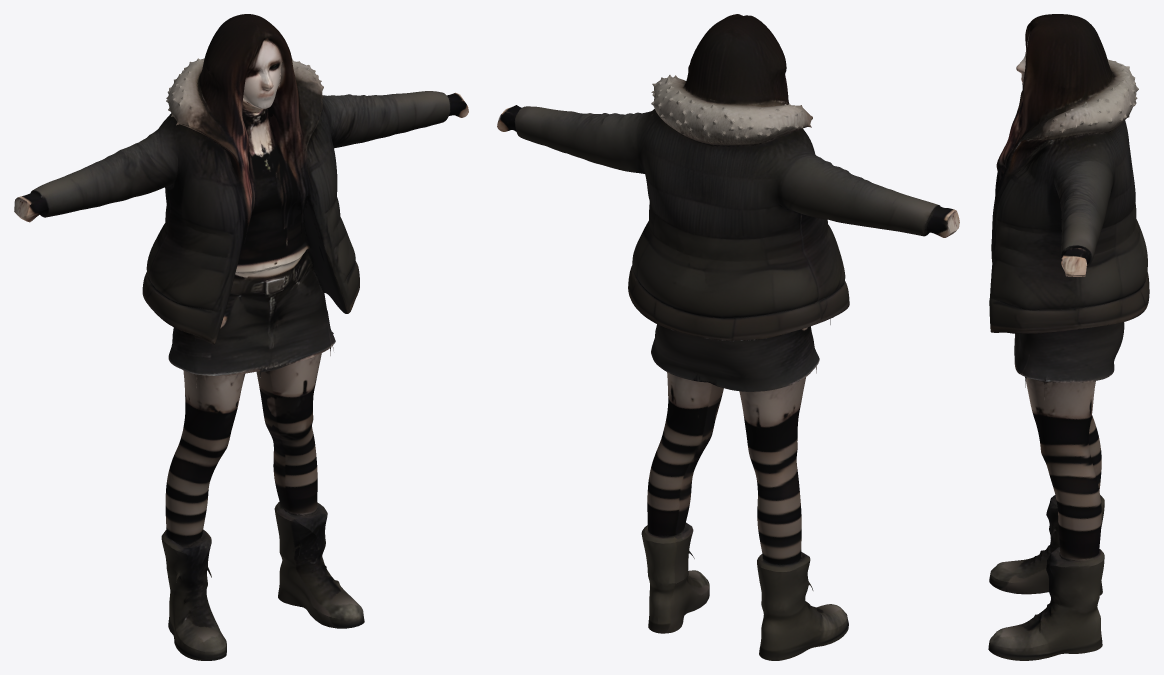
The model's file is base_basic_pbr.fbx.
3 views of the same model, side by side, from view 1: azimuth 30°, elevation 25°; view 2: azimuth 150°, elevation 25°; view 3: azimuth 270°, elevation 25° (orthographic).
Visible parts, largest first — view 1: model; view 2: model; view 3: model.
Part boxes in pixels (x1=…): model: x1=14, y1=14, x2=468, y2=660; model: x1=497, y1=14, x2=959, y2=660; model: x1=988, y1=14, x2=1149, y2=660.
Bounding box in the file's own units: 148 × 190 × 46.07.
Materials: 1 (1 with a texture image).
